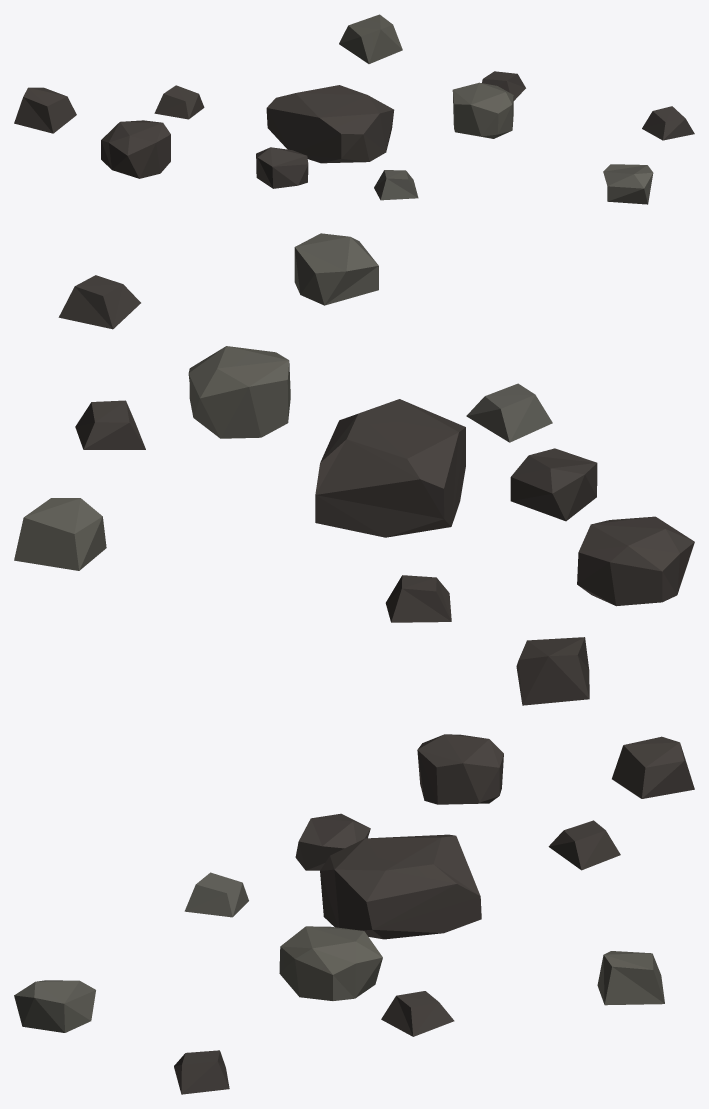
The model's file is SM_Env_Rocks_Small_01.glb.
3 renders of one model, top to bottom at view 1: azimuth 30°, elevation 25°; view 2: azimuth 150°, elevation 25°; view 3: azimuth 270°, elevation 25°, orthographic. The views are drawn at different scales.
Parts seen in each view (by area): view 1: SM_Env_Rocks_Small_01; view 2: SM_Env_Rocks_Small_01; view 3: SM_Env_Rocks_Small_01.
Part boxes in pixels (<box>): SM_Env_Rocks_Small_01: <box>14,14,694,204</box>; SM_Env_Rocks_Small_01: <box>14,233,694,705</box>; SM_Env_Rocks_Small_01: <box>14,734,694,1094</box>.
Bounding box in the file's own units: 234 × 24.84 × 205.
1 material, 1 textured.
